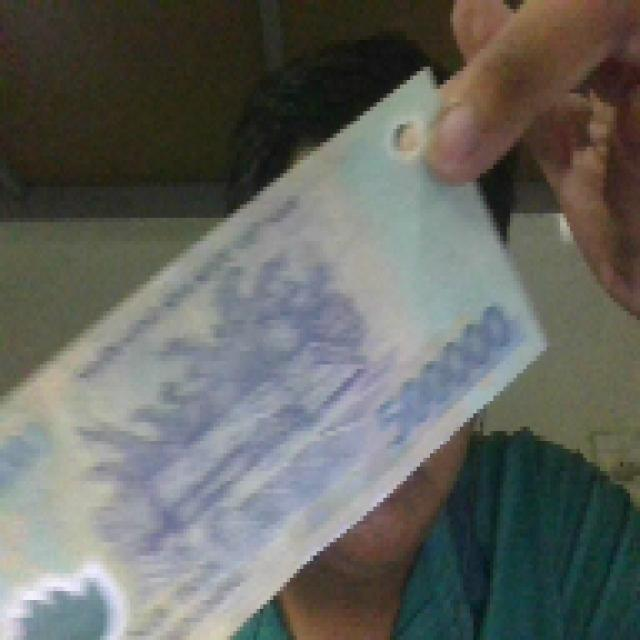500 000 VND: (1, 58, 550, 636)
